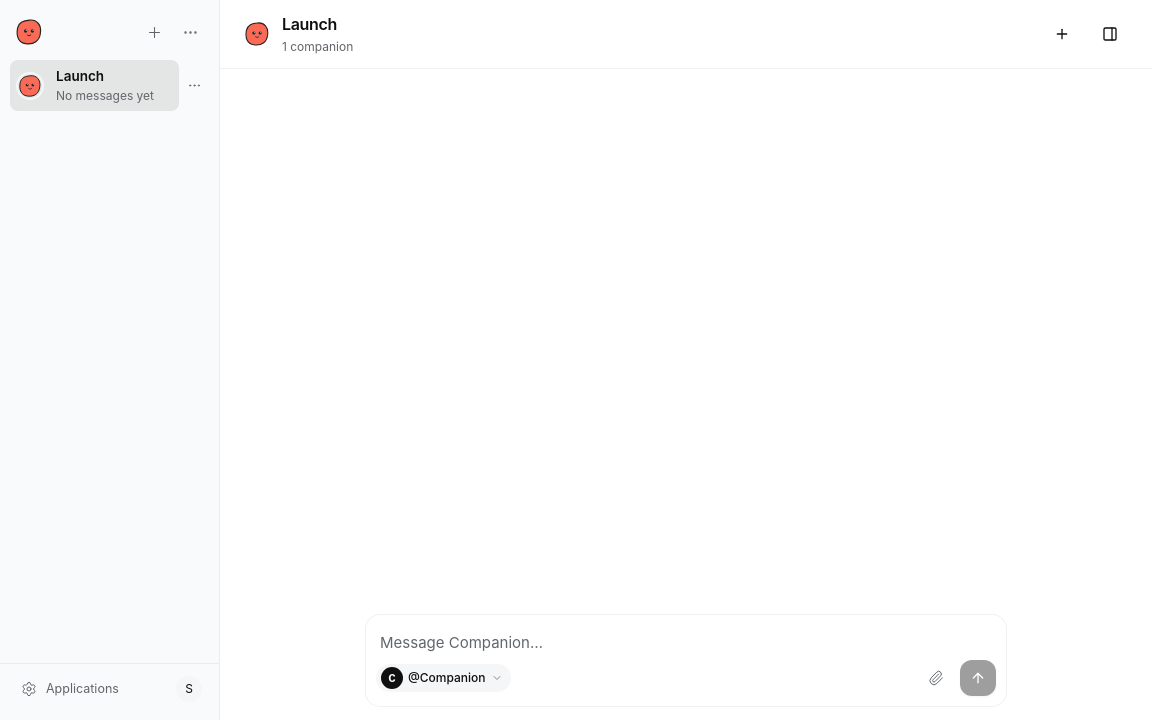
it: keeps older delegated responses inspectable when their tasks are outside the workbench page
This screenshot has width=1152, height=720.
Expected: the text "Older delegated result" is not shown
Click the button named "Workspace" at (1110, 34), box [1092, 16, 1128, 52]
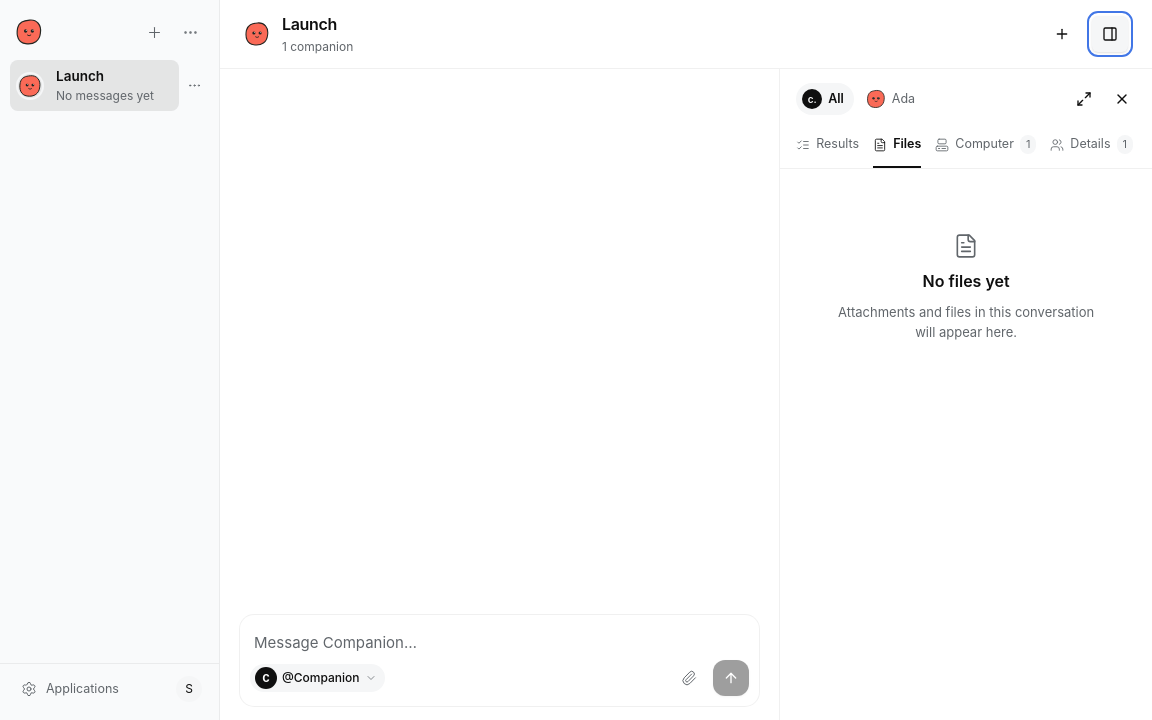
Click the tab "Ada" at (892, 99), box [860, 83, 925, 115]
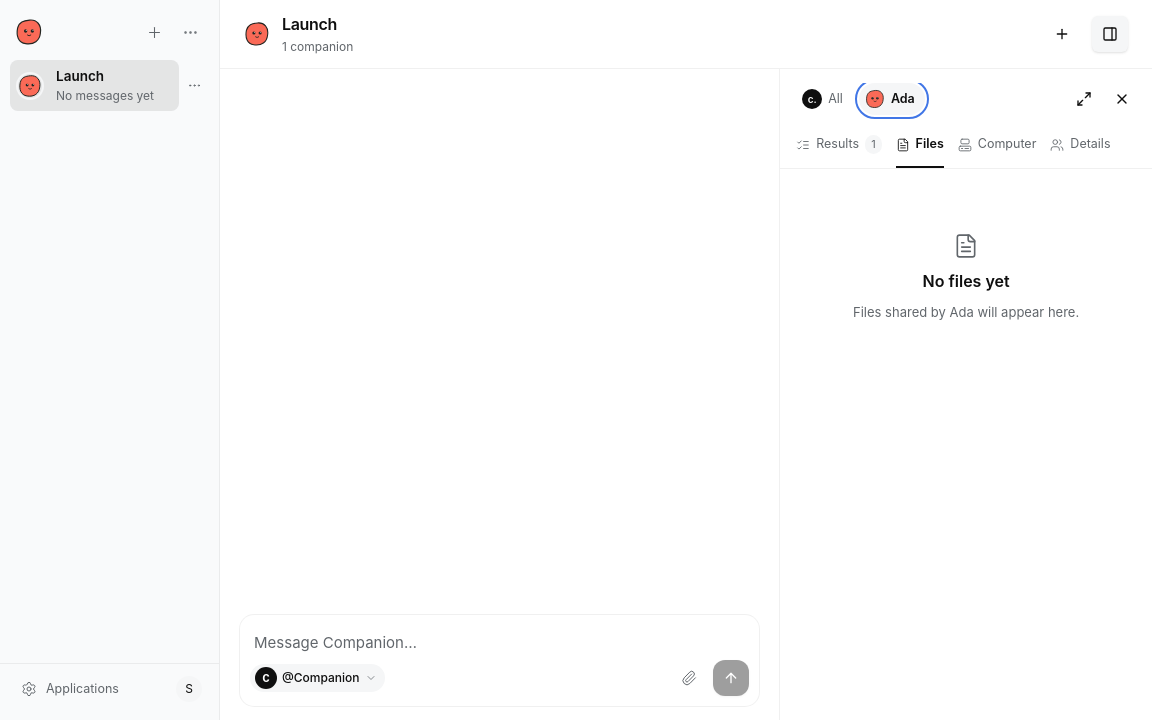
Click the button "Results 1" at (839, 146), box [796, 125, 882, 168]
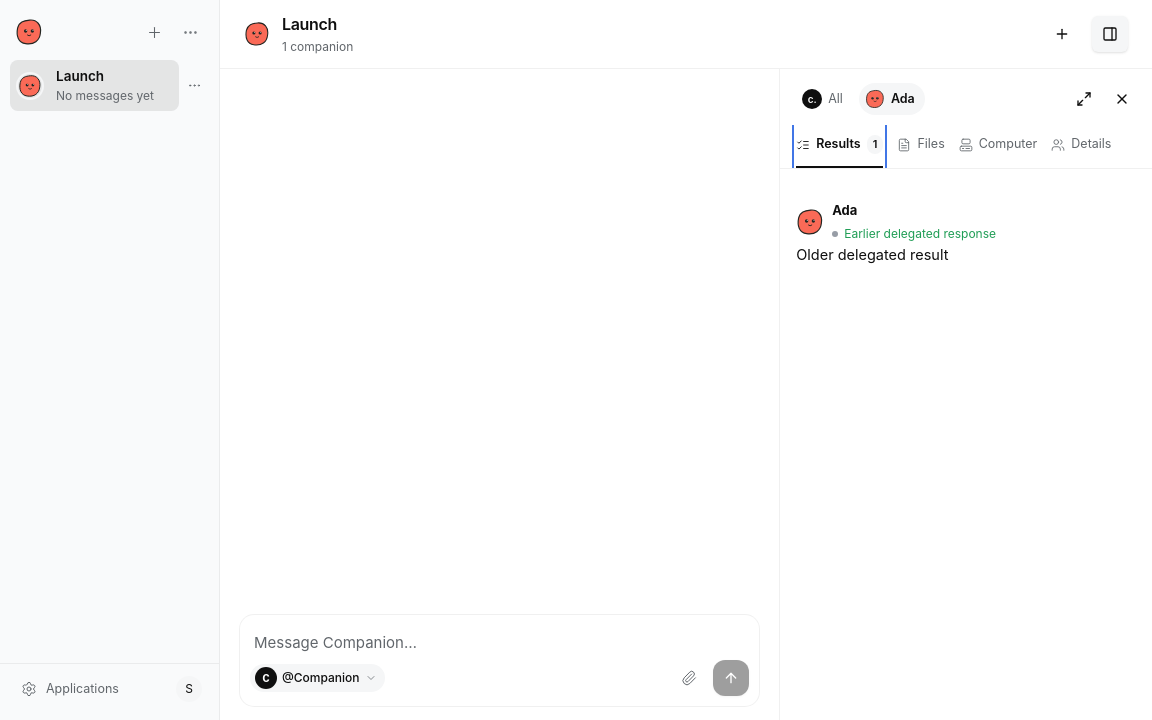
Expected: the text "Earlier delegated response" is shown, [832, 224, 996, 242]
Expected: the text "Older delegated result" is shown, [796, 246, 948, 262]
